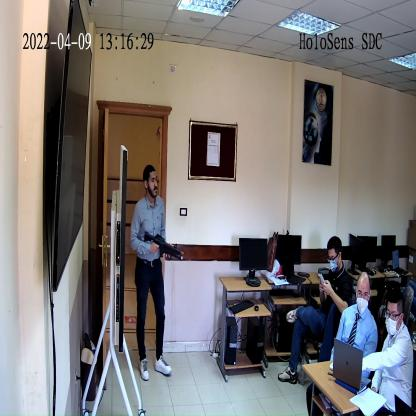handgun: (144, 230, 181, 264)
